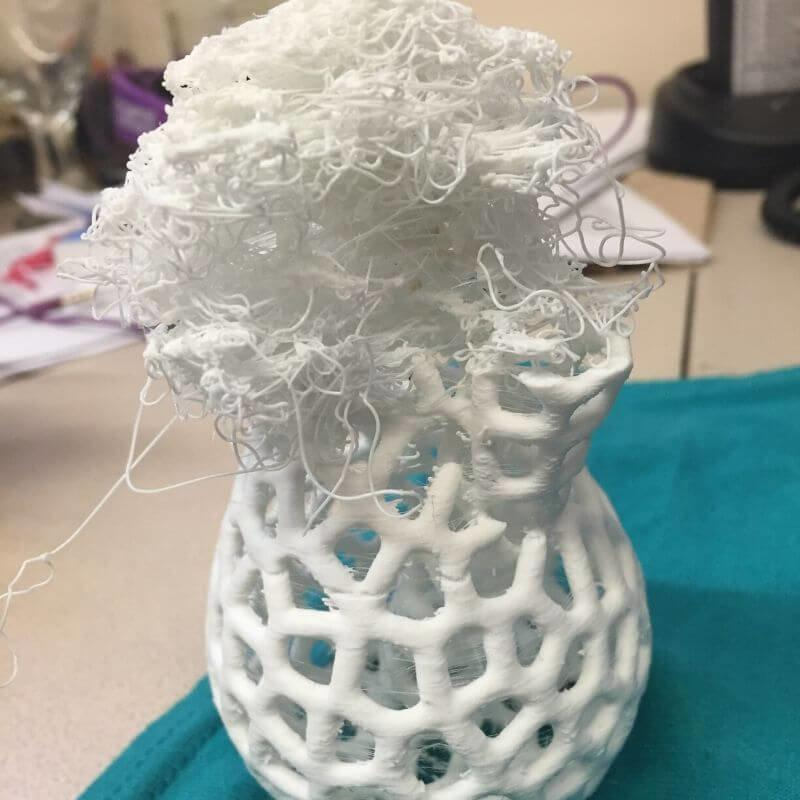Spaghetti: (73, 0, 672, 427)
Stringing or Oozing: (368, 654, 412, 702), (448, 641, 482, 678), (413, 739, 442, 775), (339, 723, 367, 758), (347, 532, 370, 568), (518, 619, 533, 663)
